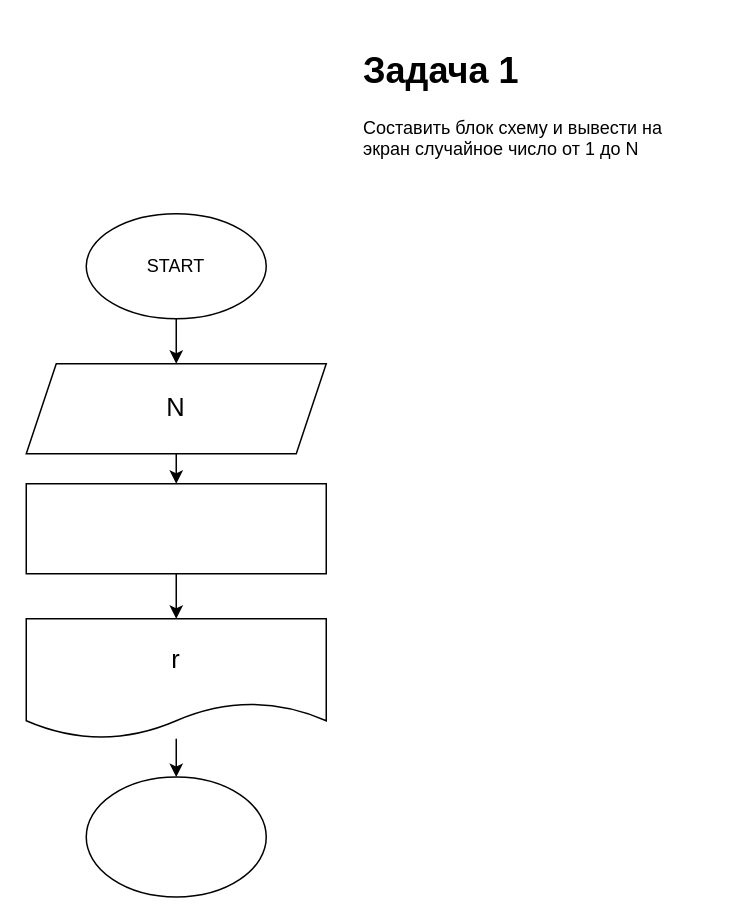
This 743x923 diagram has some shape labels left out. Here are the shapes that lost their labels. From the top down, the centre of each, then its label:
point 175,528: r r=random (1:N)
point 175,836: END
